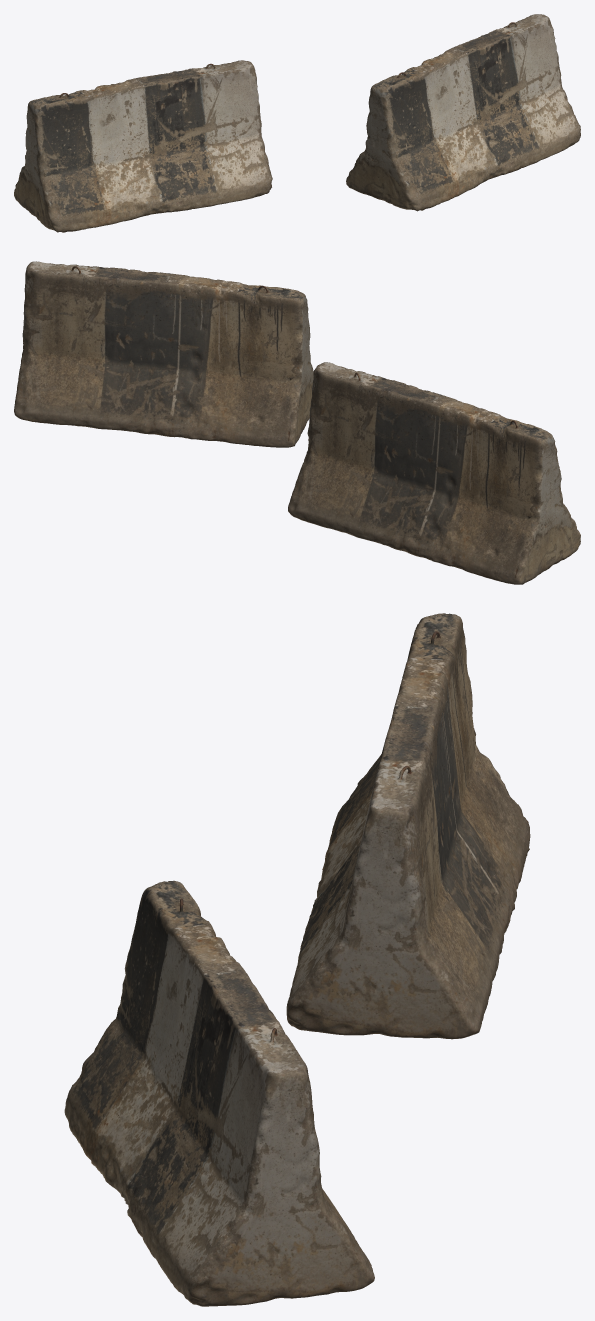
Rendered from SM_PH_concrete_road_barrier.fbx.
The picture shows the model from 3 angles, top to bottom: view 1: azimuth 30°, elevation 25°; view 2: azimuth 150°, elevation 25°; view 3: azimuth 270°, elevation 25°; orthographic projection. The views are drawn at different scales.
Parts seen in each view (by area): view 1: SM_PH_concrete_road_barrier; view 2: SM_PH_concrete_road_barrier; view 3: SM_PH_concrete_road_barrier.
Boxes of the visible parts, left/top/right/bottom form: SM_PH_concrete_road_barrier: left=14, top=14, right=580, bottom=232; SM_PH_concrete_road_barrier: left=14, top=261, right=580, bottom=584; SM_PH_concrete_road_barrier: left=64, top=613, right=530, bottom=1306.
Size of the model in its own units: 3.6 by 1.48 by 0.831.
1 material, 1 textured.
